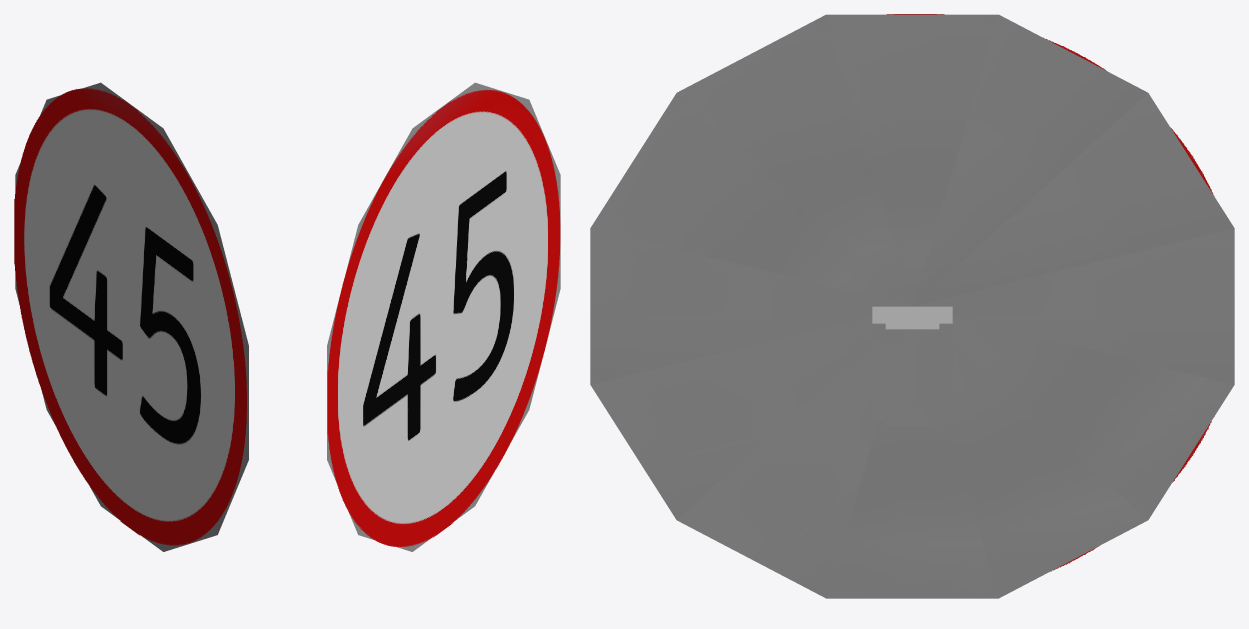
File: speed_45_medium.obj
3 views of the same model, side by side, from view 1: azimuth 30°, elevation 25°; view 2: azimuth 150°, elevation 25°; view 3: azimuth 270°, elevation 25° (orthographic). The views are drawn at different scales.
Parts seen in each view (by area): view 1: cube, circle; view 2: cube, circle; view 3: circle, cube.
Boxes of the visible parts, x1,y1,x2,y2 form: cube: [14, 88, 246, 545]; circle: [15, 82, 248, 551]; cube: [327, 89, 560, 547]; circle: [327, 82, 560, 551]; circle: [590, 14, 1234, 598]; cube: [872, 14, 1214, 571].
Bounding box in the file's own units: 0.0641 × 0.75 × 0.75.
Materials: 2 (2 with a texture image).
